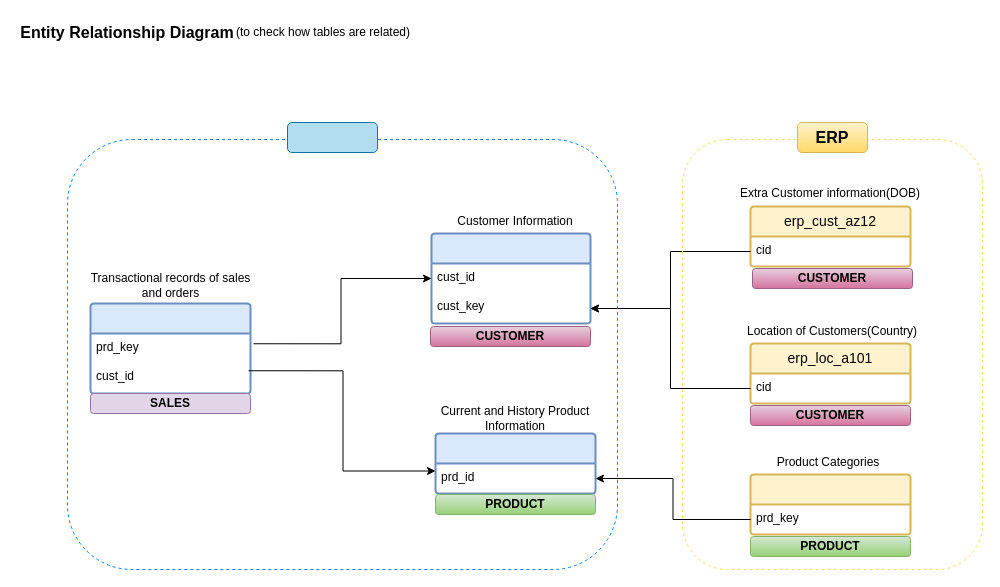
Some shapes in this 1000 by 587 pixel diagram are drawn without their labels. Here are the shapes that lost their labels. From the top down, the box of each, then its label:
(286, 122, 378, 152): CRM
(430, 232, 591, 324): crm_cust_info
(89, 302, 251, 394): crm_sales_details
(434, 432, 596, 494): cust_prd_info
(749, 473, 911, 535): erp_px_cat_g1v2
